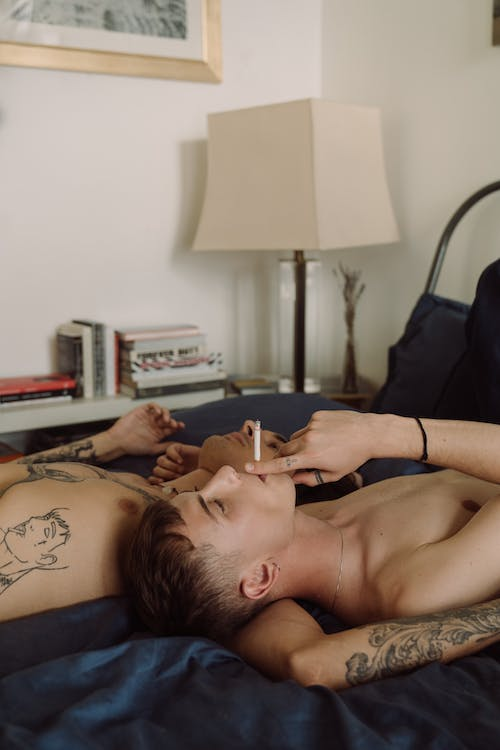cigarette: (252, 418, 263, 461)
